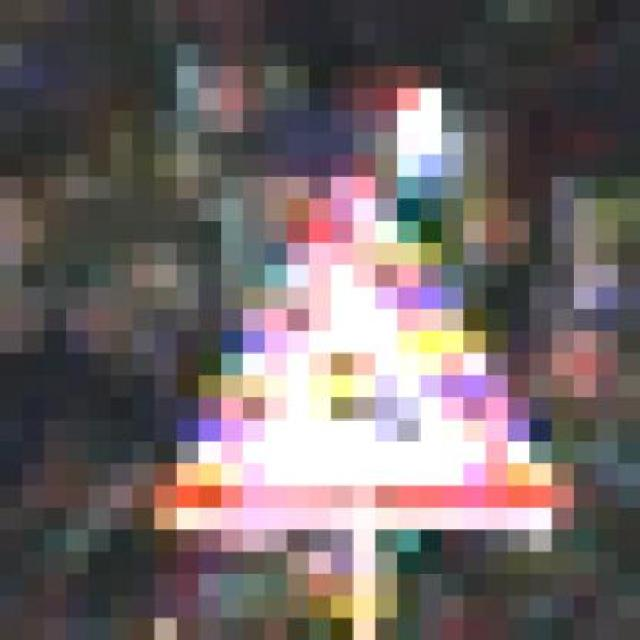Left Zig Zag Traffic: (88, 111, 574, 574)
